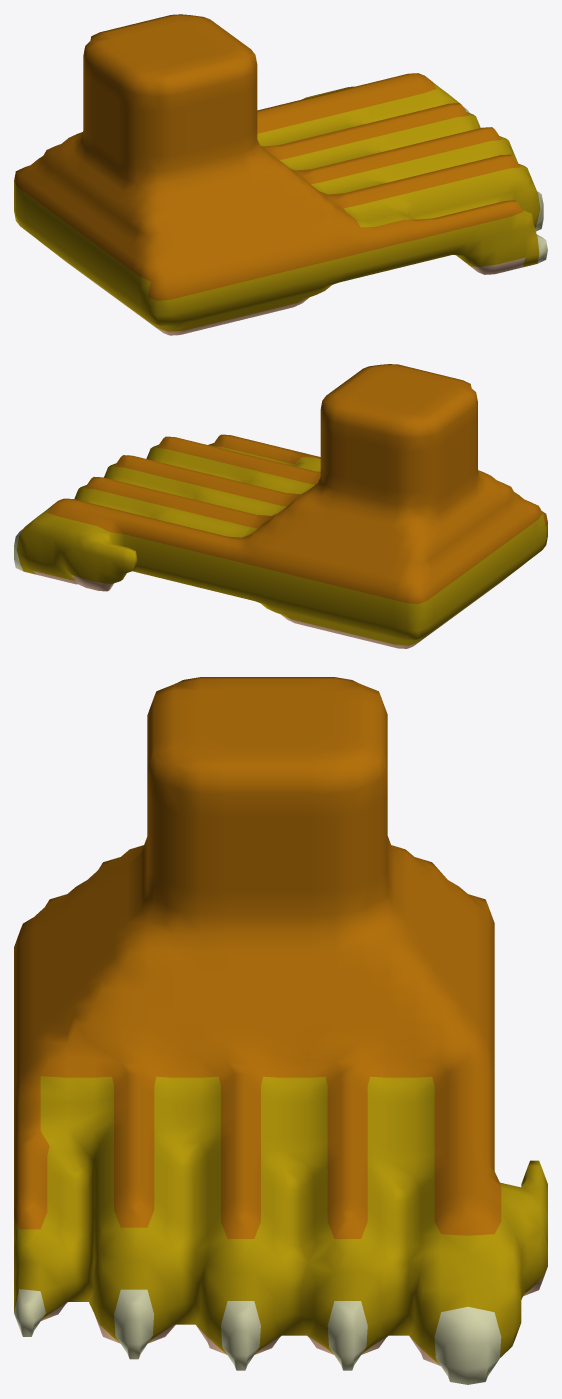
The picture shows the model from 3 angles, top to bottom: view 1: azimuth 30°, elevation 25°; view 2: azimuth 150°, elevation 25°; view 3: azimuth 270°, elevation 25°; orthographic projection. The views are drawn at different scales.
Bounding box in the file's own units: 1.6 × 0.8 × 1.
